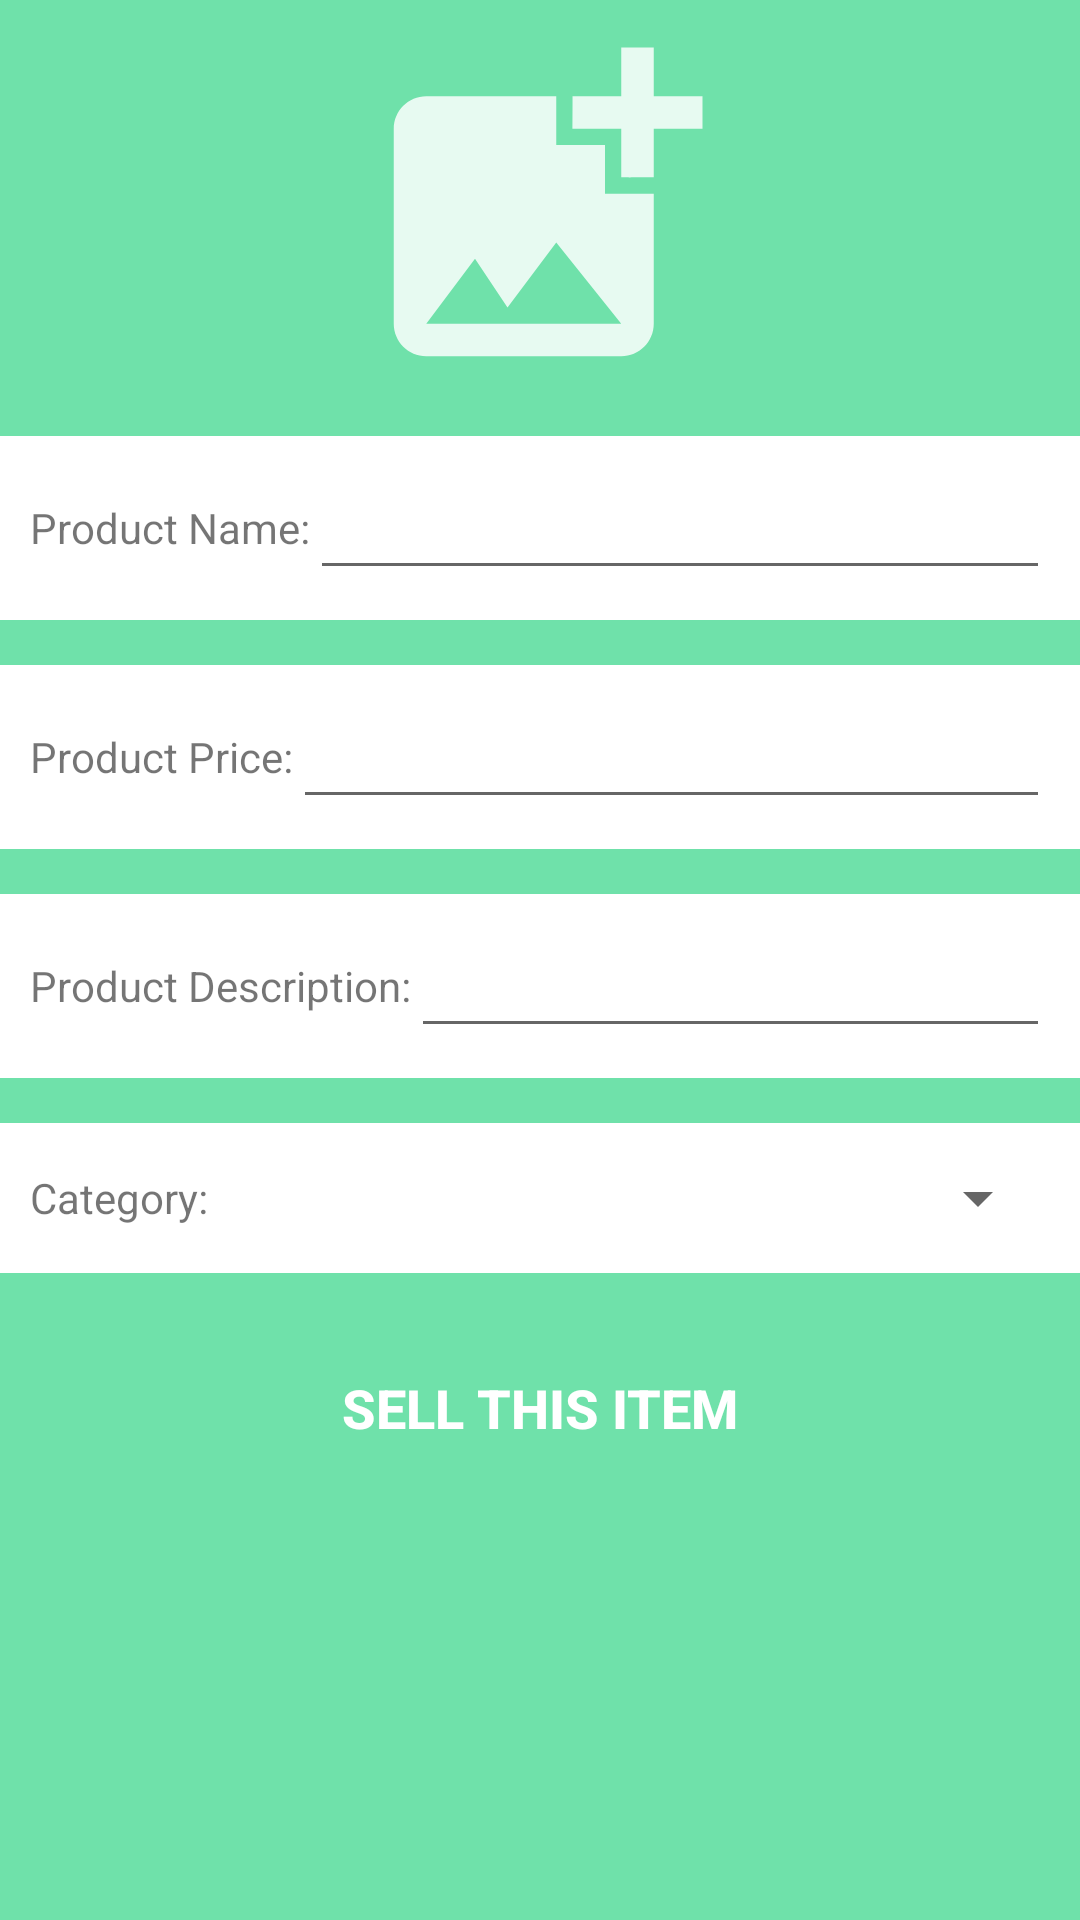

Icons on this 1080px x 1920px Android screen, each with its box as (x1, y1, x2, y2):
add: (393, 47, 703, 357)
